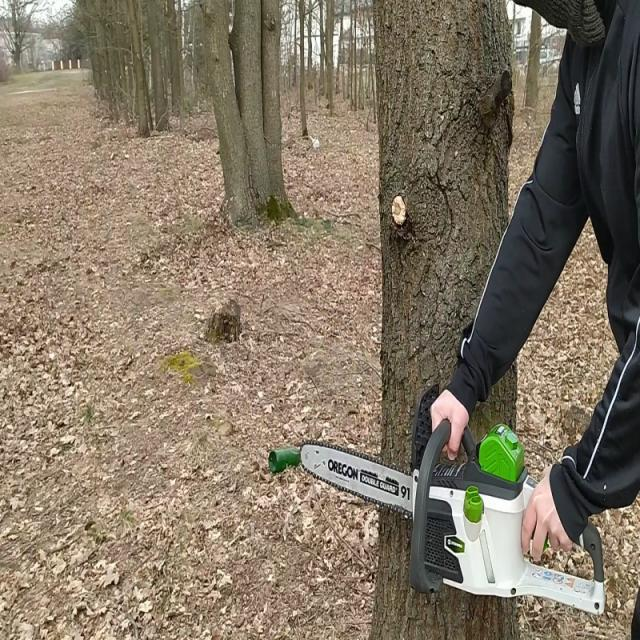Chainsaw: (293, 415, 613, 621)
